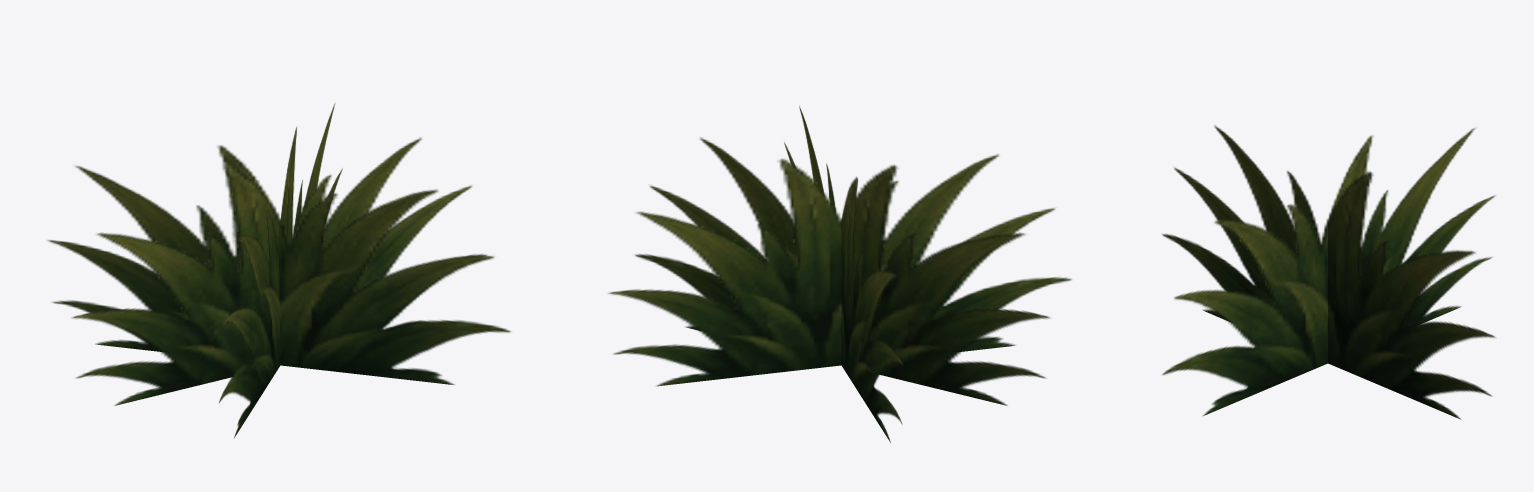
File: lp_grass_tuft_a.glb
The picture shows the model from 3 angles, left to right: view 1: azimuth 30°, elevation 25°; view 2: azimuth 150°, elevation 25°; view 3: azimuth 270°, elevation 25°; orthographic projection.
Parts seen in each view (by area): view 1: lp_grass_tuft_a; view 2: lp_grass_tuft_a; view 3: lp_grass_tuft_a.
Part boxes in pixels (bbox=[...]): lp_grass_tuft_a: bbox=[47, 103, 510, 437]; lp_grass_tuft_a: bbox=[608, 105, 1071, 442]; lp_grass_tuft_a: bbox=[1162, 125, 1495, 419].
Bounding box in the file's own units: 0.6377 × 0.3051 × 0.4509.
1 material, 1 textured.
